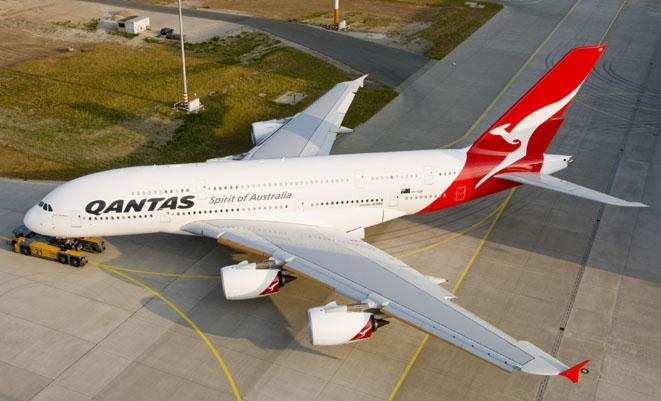airplane: (19, 42, 652, 379)
